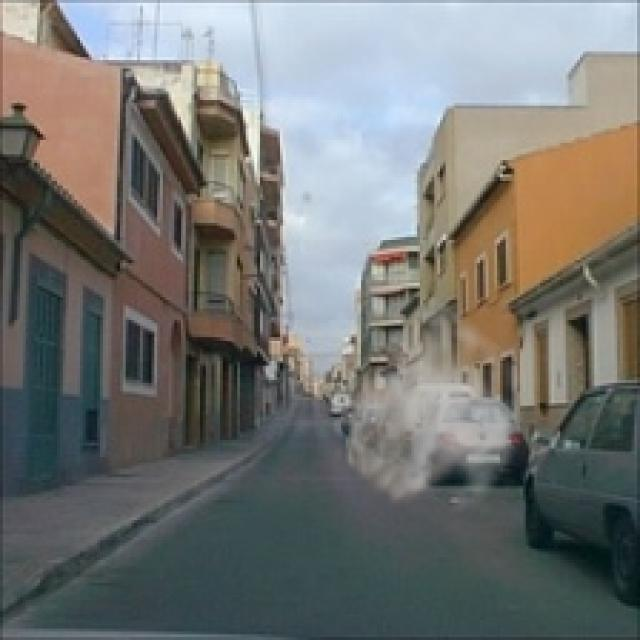smoke: (328, 283, 528, 526)
